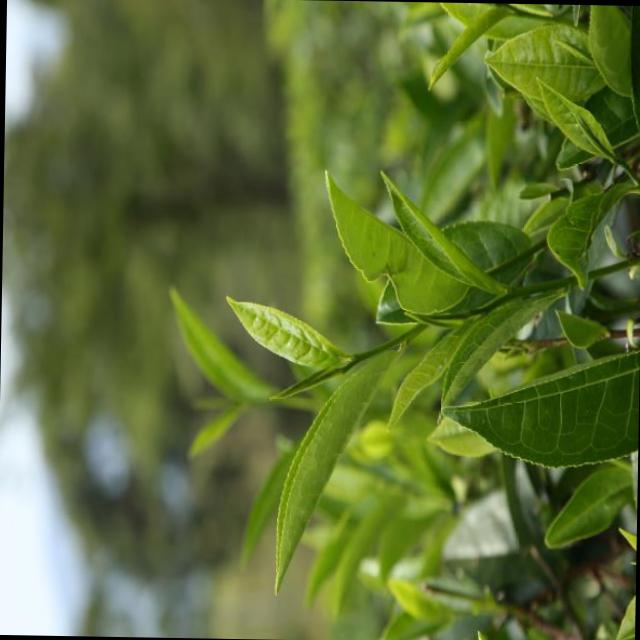Stem: (357, 346, 378, 361), (622, 164, 637, 181), (515, 8, 532, 19)
